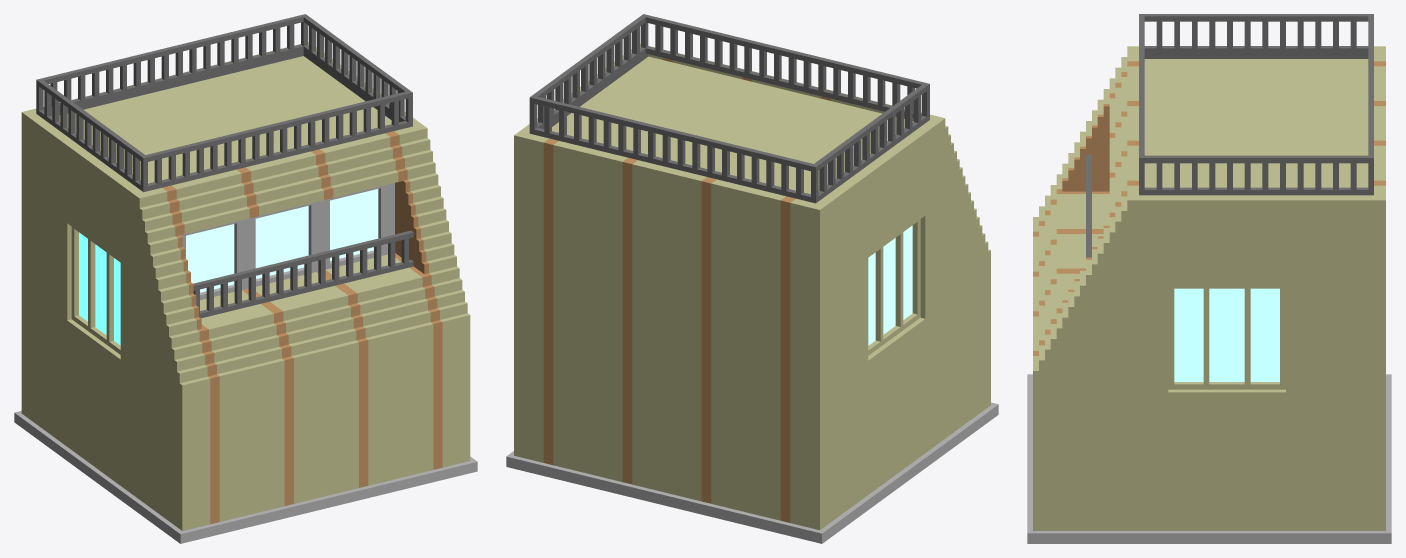
The model's file is typeNine.glb.
3 views of the same model, side by side, from view 1: azimuth 30°, elevation 25°; view 2: azimuth 150°, elevation 25°; view 3: azimuth 270°, elevation 25° (orthographic). The views are drawn at different scales.
Visible parts, largest first — view 1: ObjObject; view 2: ObjObject; view 3: ObjObject.
Boxes of the visible parts, x1,y1,x2,y2 form: ObjObject: (14,14,477,543); ObjObject: (506,14,998,543); ObjObject: (1027,14,1391,543).
Size of the model in its own units: 6.4 by 7.1 by 6.2.
Materials: 3 (1 with a texture image).
